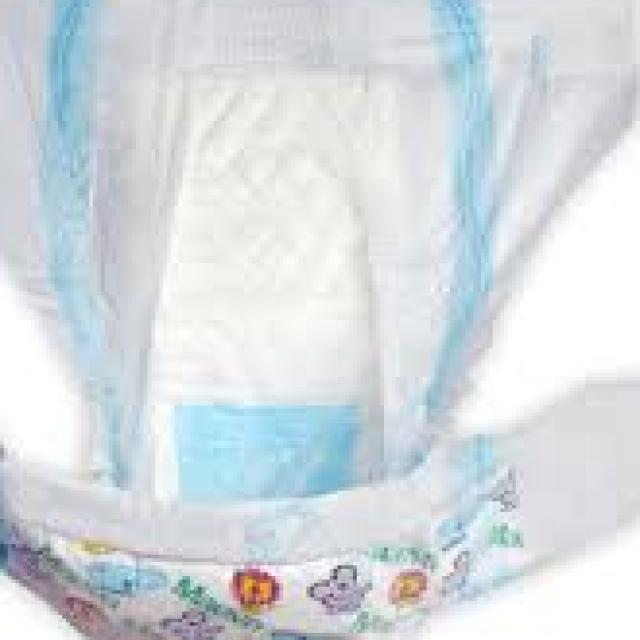organic: (4, 4, 615, 638)
